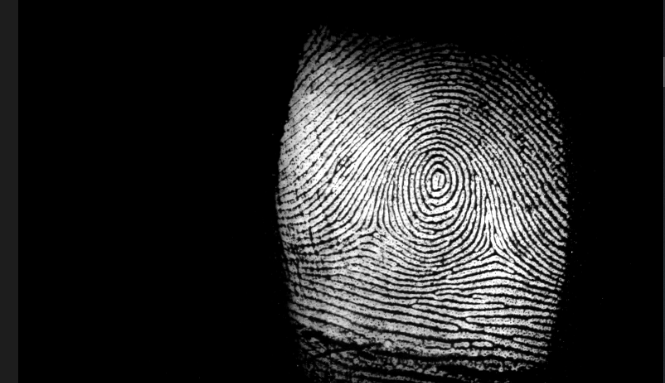nucelo: (424, 170, 447, 188)
verticilo: (360, 216, 387, 238), (481, 237, 505, 259)
